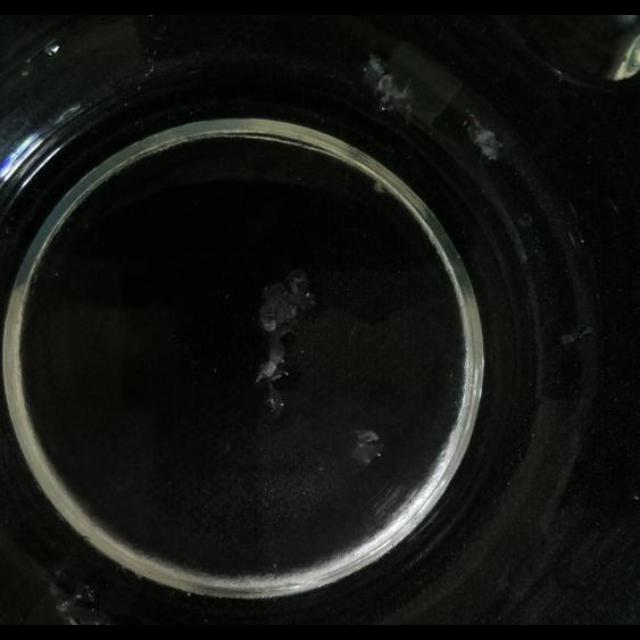Fibre: (257, 268, 315, 336), (49, 574, 111, 626), (368, 60, 414, 116), (464, 116, 502, 160), (352, 428, 384, 466), (364, 53, 390, 87)
